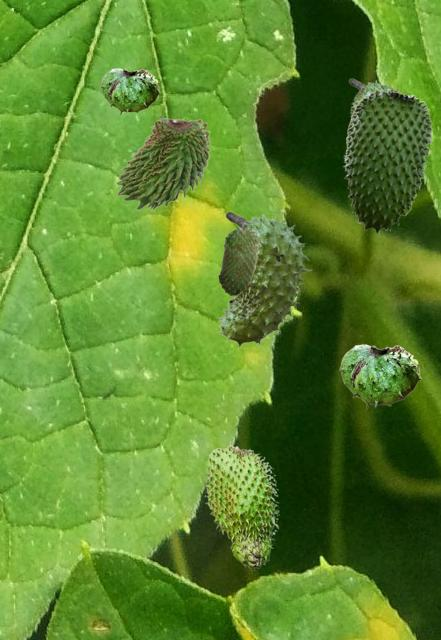guyabano: (216, 211, 311, 348), (344, 88, 431, 233), (204, 444, 279, 570), (115, 114, 210, 209), (339, 344, 420, 408), (342, 78, 399, 167), (218, 227, 258, 295), (100, 68, 159, 114)
